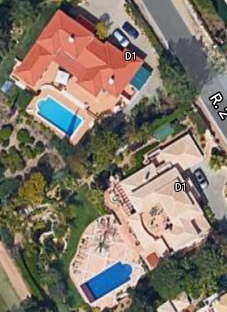pool: (36, 99, 77, 132), (81, 269, 133, 292)
